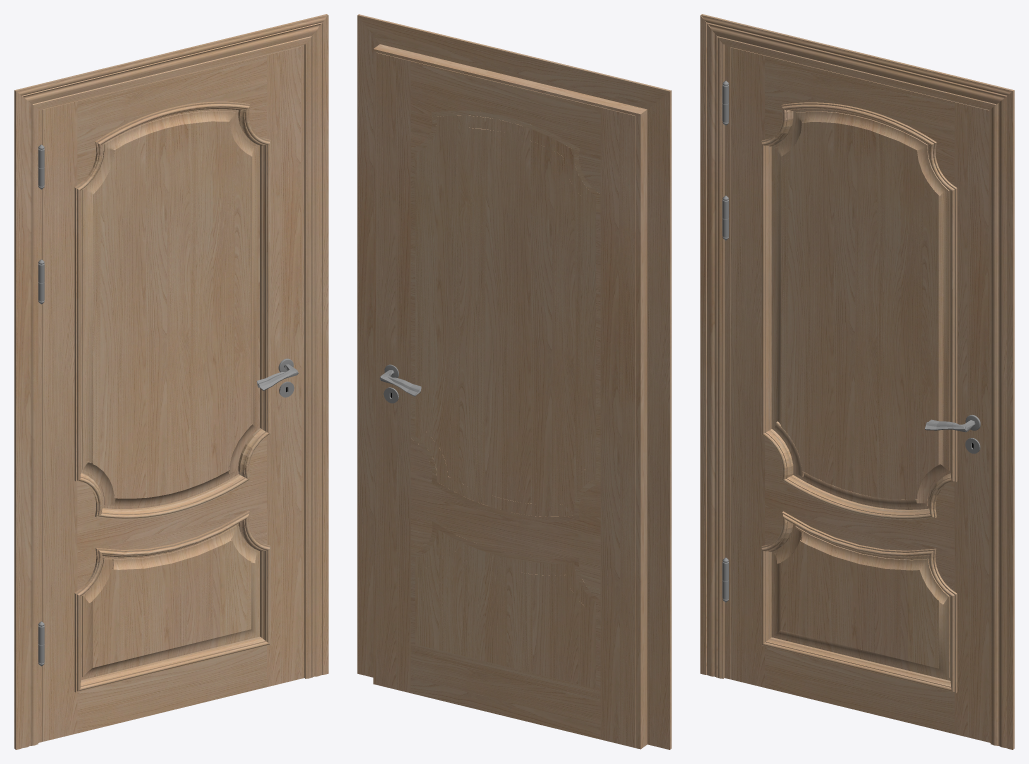
Rendered from door26.FBX.
3 views of the same model, side by side, from view 1: azimuth 30°, elevation 25°; view 2: azimuth 150°, elevation 25°; view 3: azimuth 330°, elevation 25° (orthographic).
Visible parts, largest first — view 1: doors, frame; view 2: doors, frame; view 3: doors, frame.
Part boxes in pixels (x1=…): doors: x1=38, y1=46, x2=301, y2=741; frame: x1=14, y1=14, x2=328, y2=749; doors: x1=376, y1=52, x2=635, y2=747; frame: x1=357, y1=14, x2=671, y2=749; doors: x1=722, y1=47, x2=989, y2=742; frame: x1=700, y1=14, x2=1014, y2=749.
Size of the model in its own units: 108 by 217 by 19.21.
